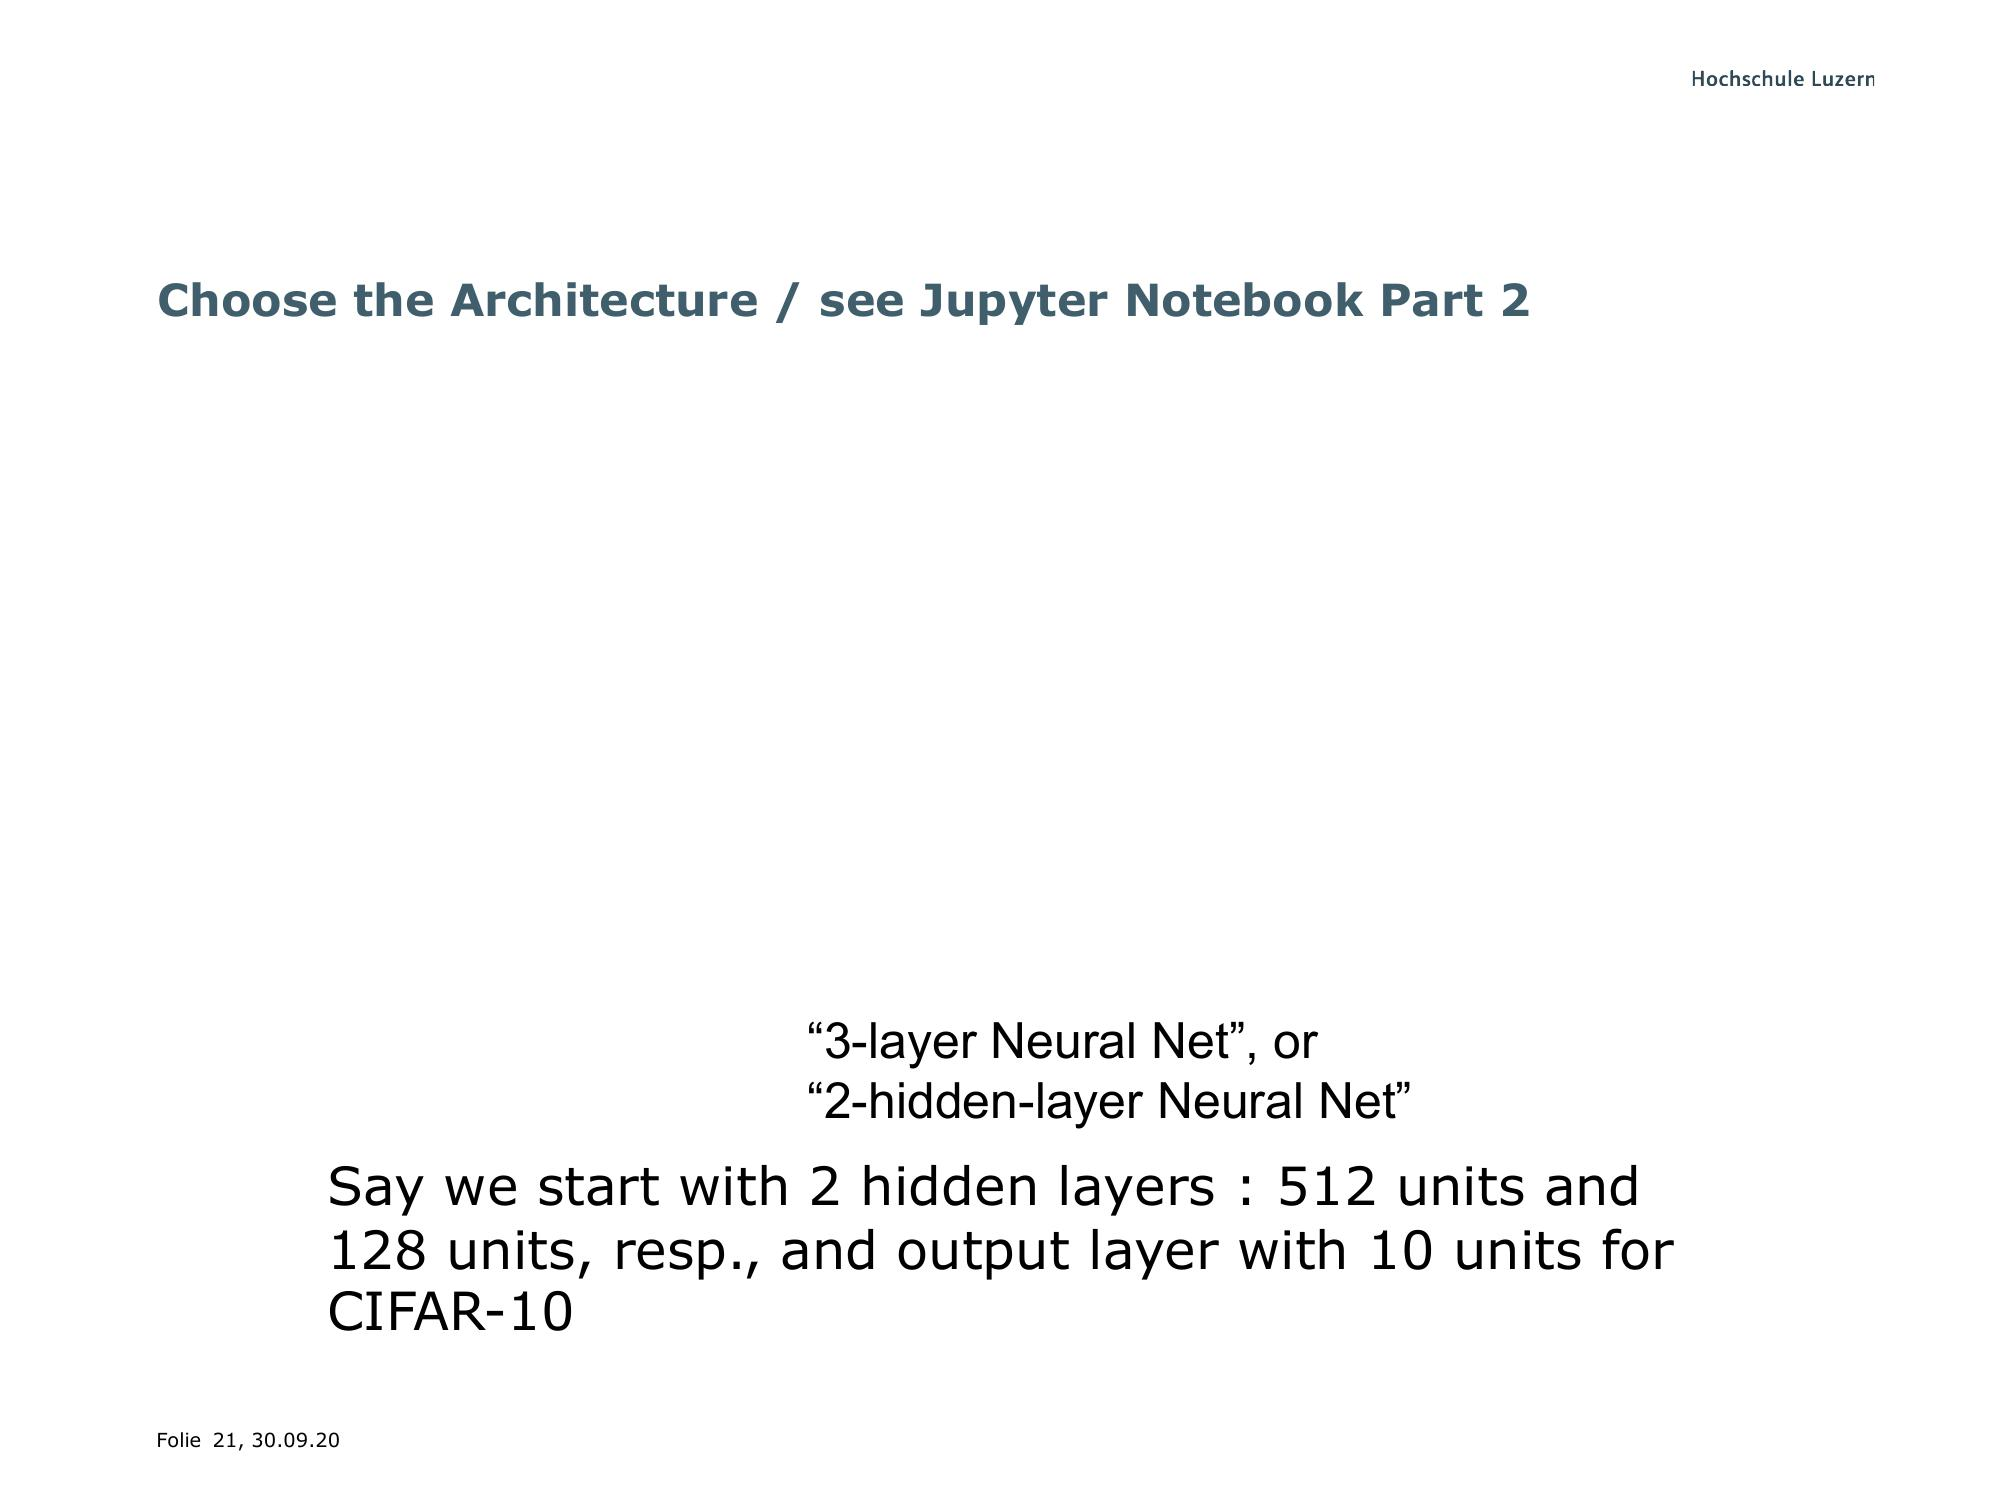Title: (143, 258, 1532, 342)
